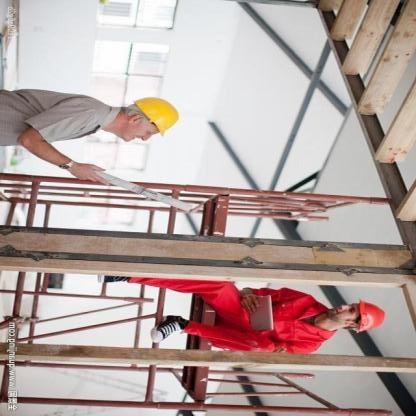red: (354, 296, 394, 342)
yellow: (127, 96, 186, 137)
